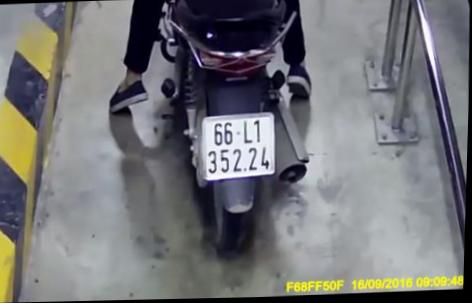LP: (200, 114, 277, 180)
